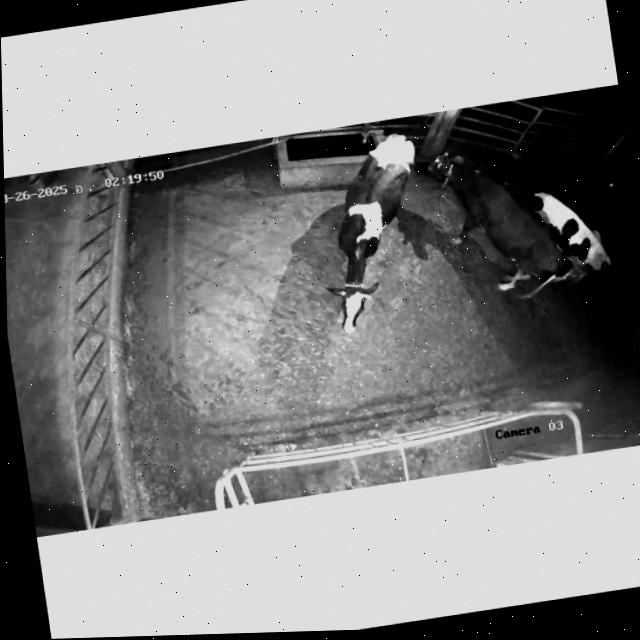stand: (410, 130, 574, 339), (300, 127, 446, 359), (504, 180, 610, 277)
